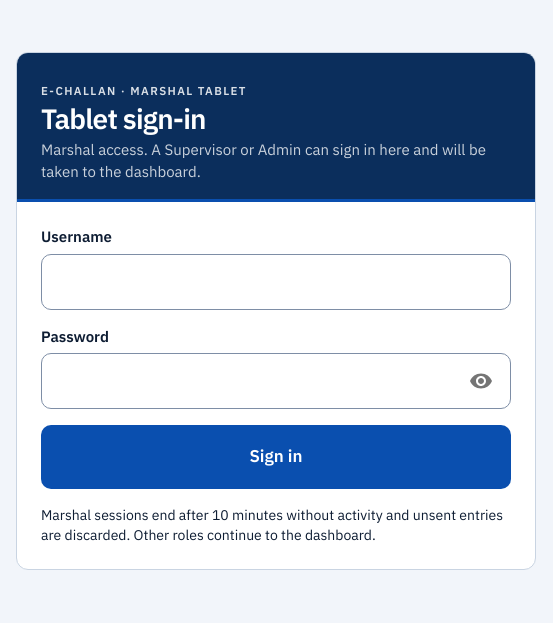
Test case: AUTH-01/AUTH-04: tablet login, protected routes and idle logout › reports a login error and stays on the login screen
Type "EMP-3106" into the field labelled "Username" at (276, 282), box [41,254,511,310]
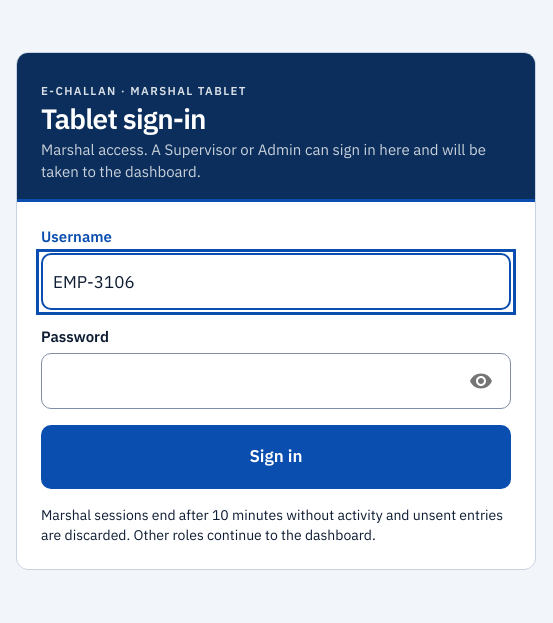
Type "planner-demo-marshal-secret" into the password field labelled "Password" at (243, 381), box [41,353,445,409]
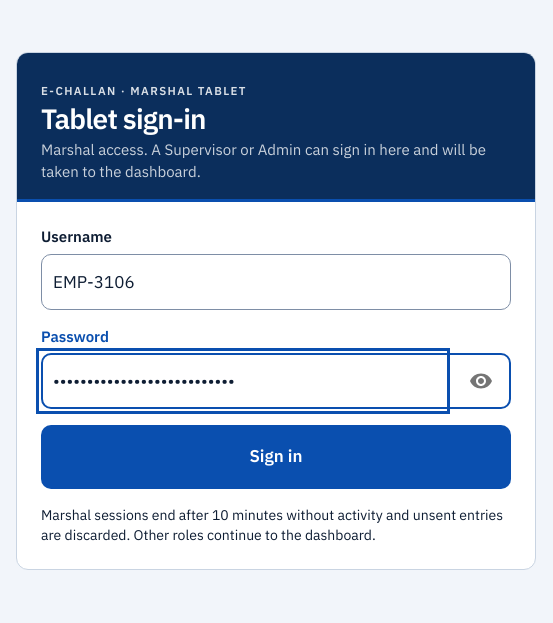
Click the button "Sign in" at (276, 457), box [41,425,511,489]
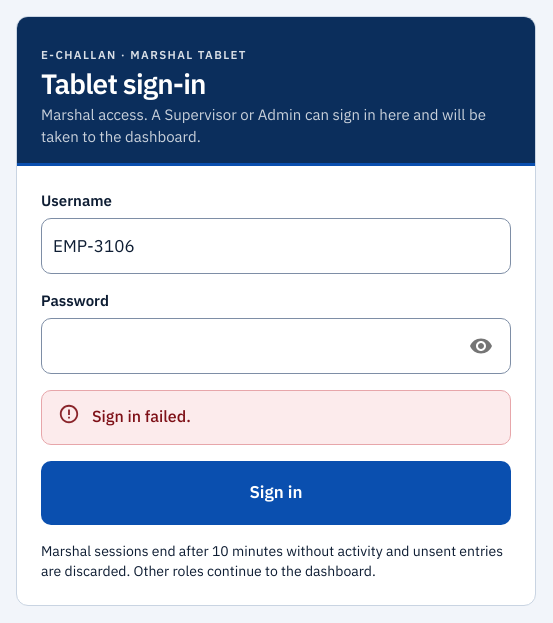
Expected: the message reads "Sign in failed.", [92,406,191,426]
